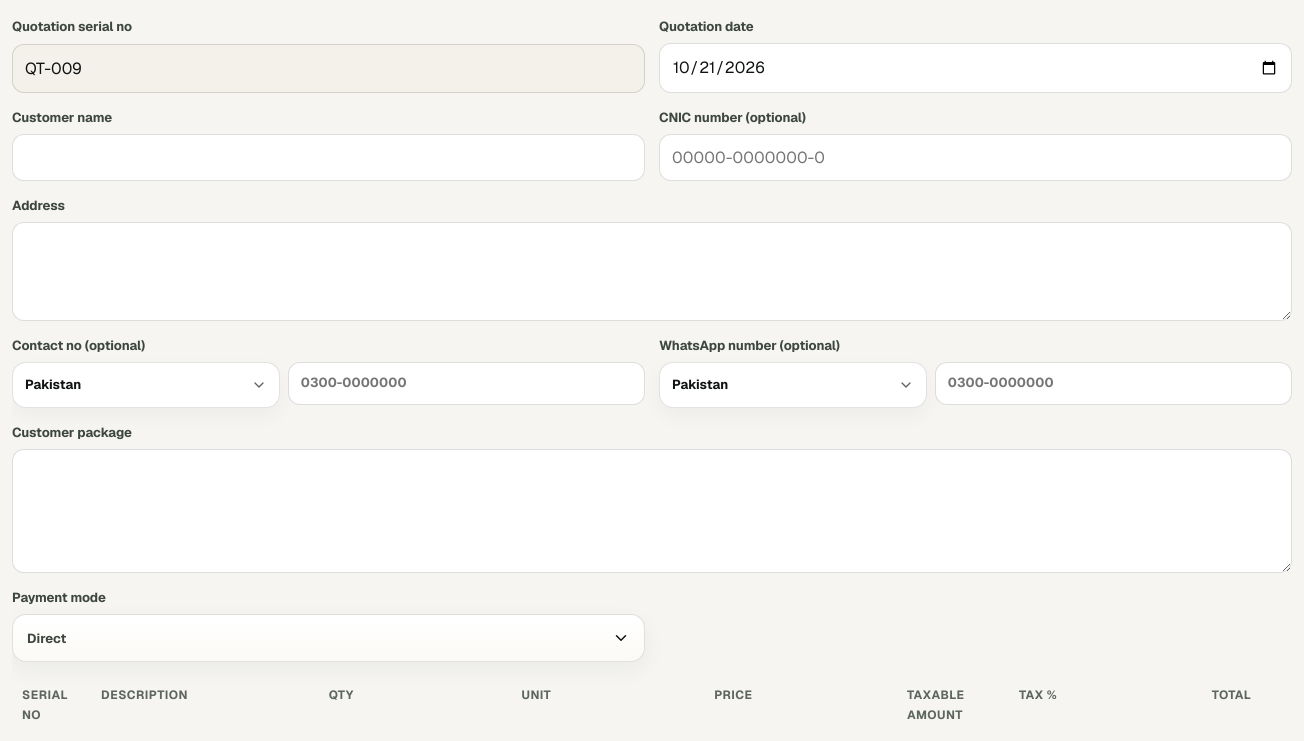
Test: typing a customer name shows matches and fills the details when one is chosen
In the field labelled "Customer name": (328, 157) [12, 134, 645, 181], type "Sheikh"
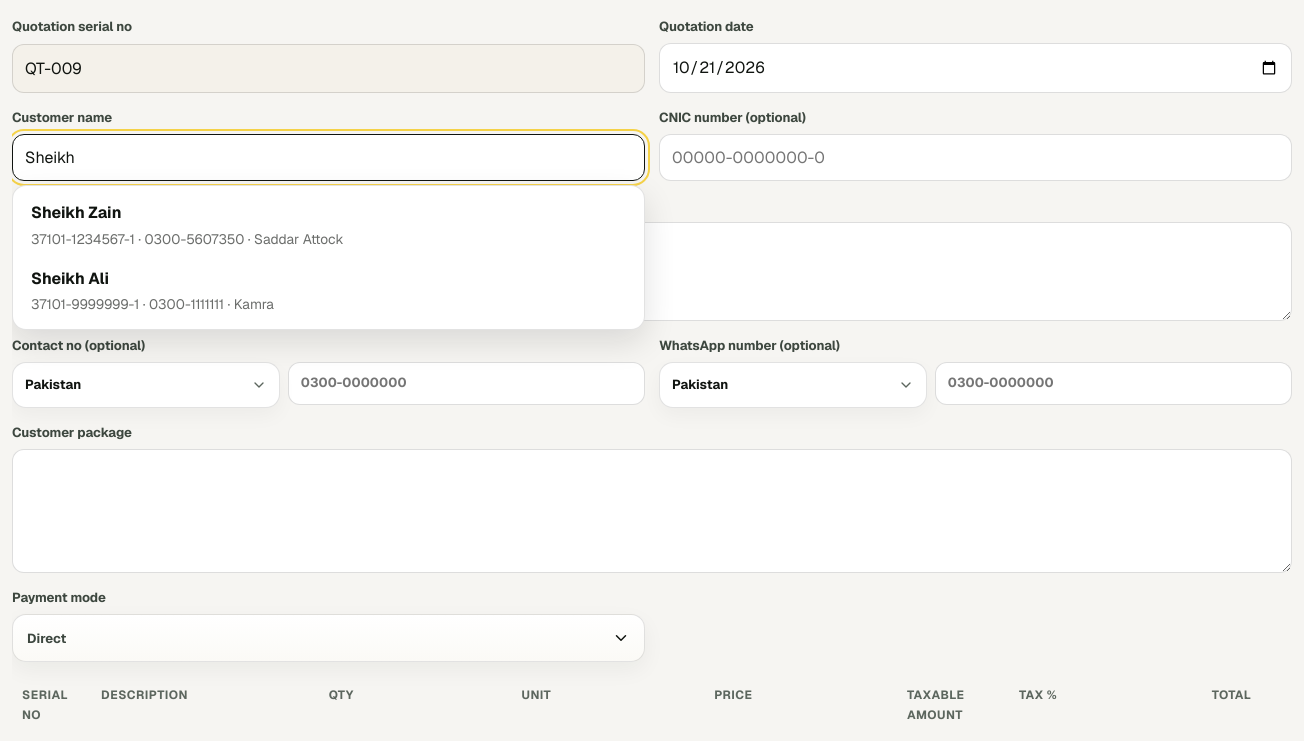
Expected: the option "Sheikh Zain 37101-1234567-1 · 0300-5607350 · Saddar Attock" is shown
Click the option "Sheikh Zain 37101-1234567-1 · 0300-5607350 · Saddar Attock": (76, 213) [19, 192, 638, 258]
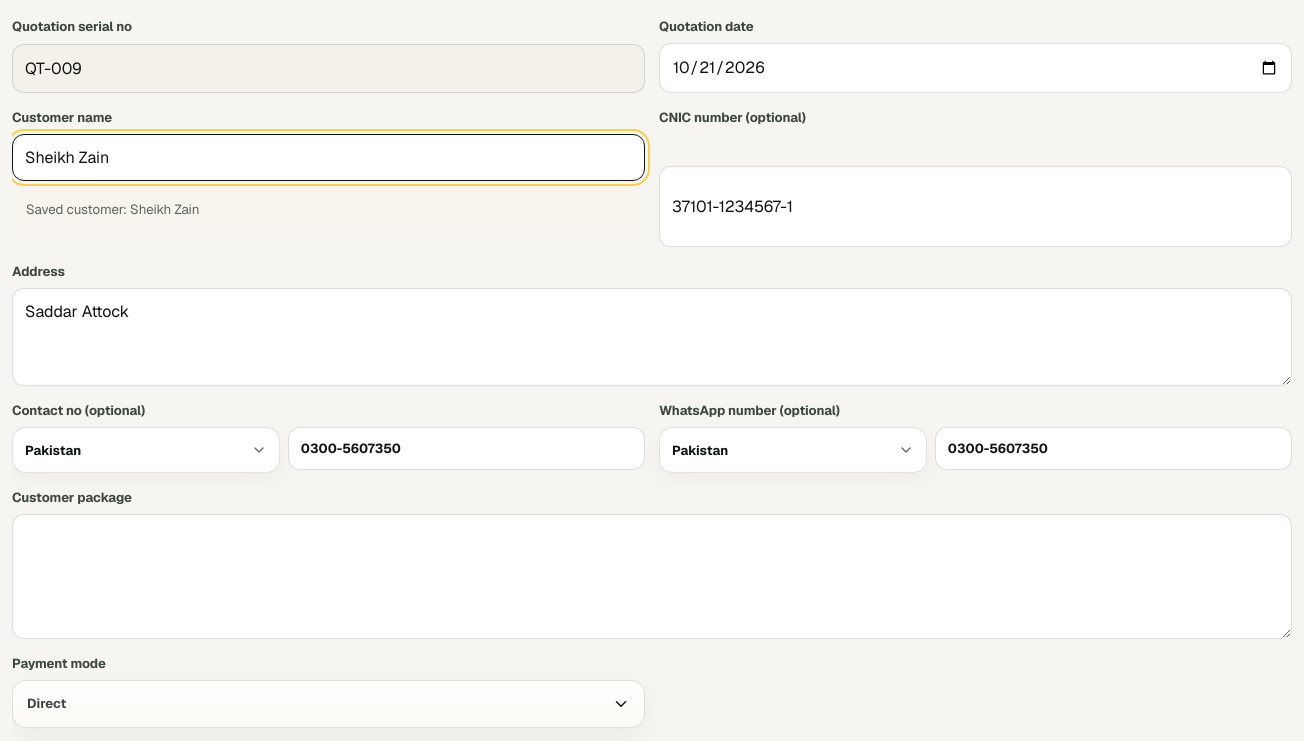
Expected: the field labelled "Customer name" holds "Sheikh Zain", [12, 134, 645, 181]
Expected: the text box labelled "Address" holds "Saddar Attock", [12, 288, 1292, 386]
Expected: the field labelled "CNIC number (optional)" holds "37101-1234567-1", [659, 166, 1292, 247]
